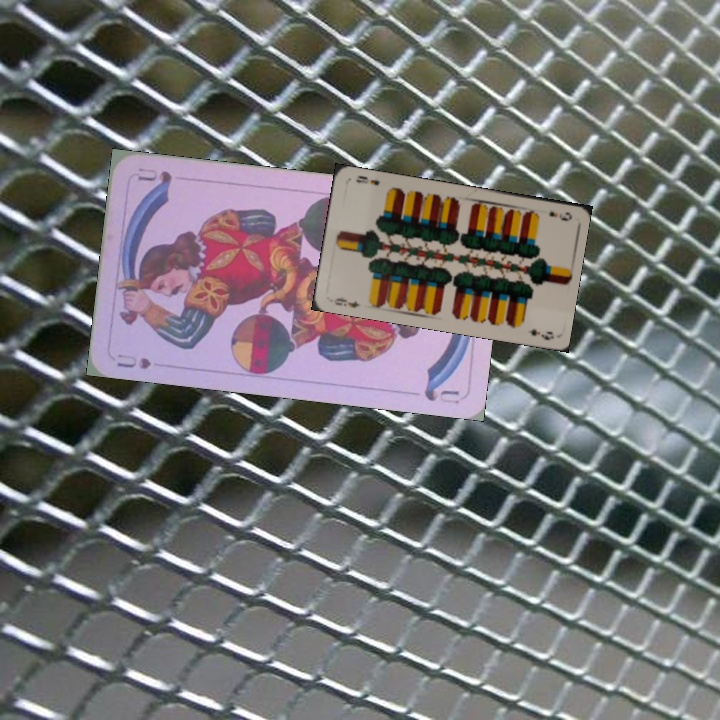E9: (330, 294, 363, 310), (545, 207, 574, 224)
SU: (113, 349, 154, 372)
